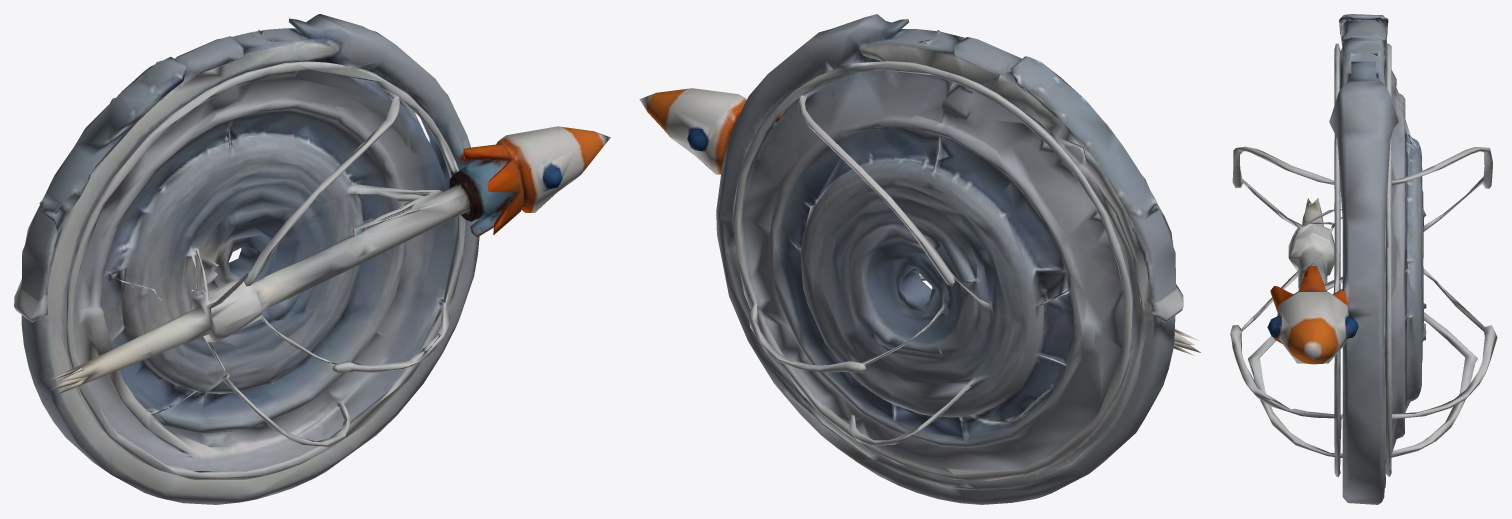
File: rubber_x.glb
3 views of the same model, side by side, from view 1: azimuth 30°, elevation 25°; view 2: azimuth 150°, elevation 25°; view 3: azimuth 270°, elevation 25° (orthographic). The views are drawn at different scales.
Parts seen in each view (by area): view 1: tripo_node_043907e6-fe72-47de-9be4-3bfdc8a447c6; view 2: tripo_node_043907e6-fe72-47de-9be4-3bfdc8a447c6; view 3: tripo_node_043907e6-fe72-47de-9be4-3bfdc8a447c6.
Part boxes in pixels (x1,y1,x2,y2): tripo_node_043907e6-fe72-47de-9be4-3bfdc8a447c6: (14,14,610,504); tripo_node_043907e6-fe72-47de-9be4-3bfdc8a447c6: (639,14,1200,504); tripo_node_043907e6-fe72-47de-9be4-3bfdc8a447c6: (1230,14,1497,504).
Bounding box in the file's own units: 0.9782 × 0.7624 × 0.4183.
Materials: 1 (1 with a texture image).
